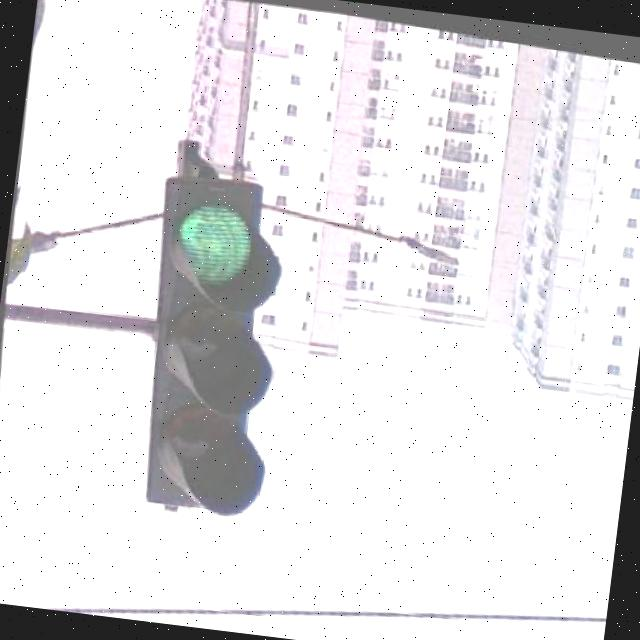green_light: (122, 167, 296, 520)
